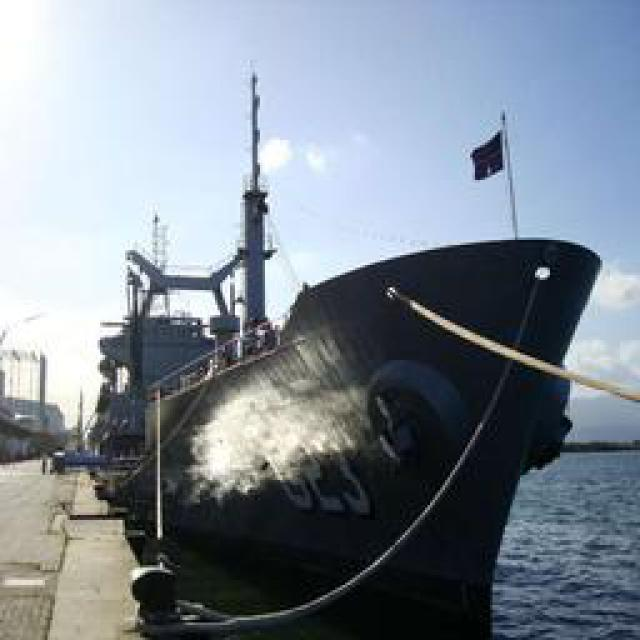Ship: (103, 177, 611, 605)
